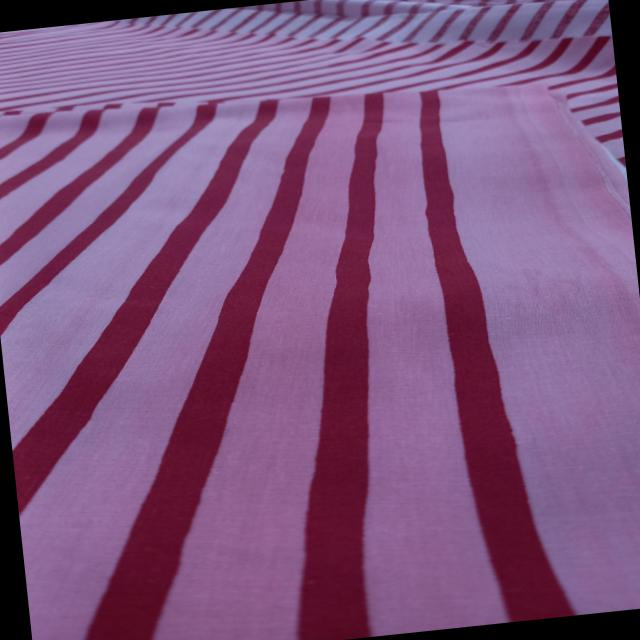color issues: (150, 94, 433, 636)
